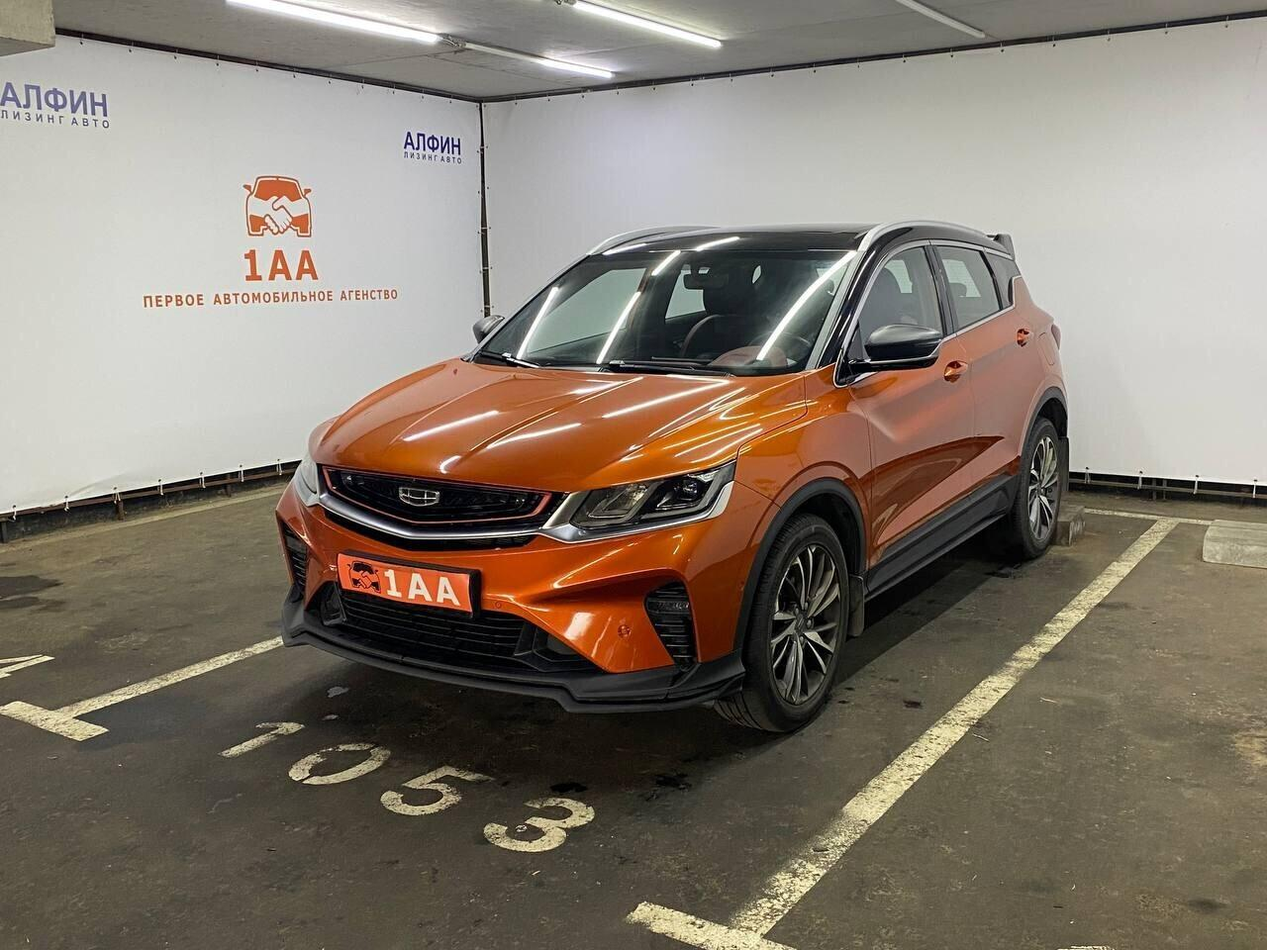Coolray_2019-2023: (270, 218, 1069, 736)
